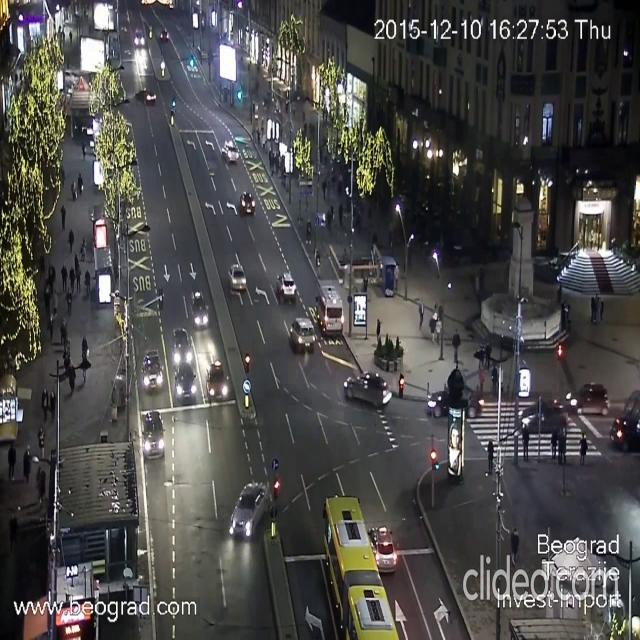bus: (322, 493, 400, 639), (318, 287, 344, 333)
car: (229, 480, 271, 540), (343, 370, 392, 407), (519, 401, 571, 435), (566, 382, 611, 420), (428, 388, 484, 418), (613, 394, 640, 450), (371, 524, 398, 574), (140, 410, 164, 460), (289, 316, 315, 353), (144, 349, 164, 391), (206, 359, 227, 399), (175, 365, 197, 402), (173, 328, 193, 366), (276, 271, 296, 302), (192, 293, 208, 327), (228, 263, 246, 293), (221, 138, 239, 162), (239, 191, 255, 214), (138, 88, 156, 102), (134, 27, 144, 45), (160, 26, 170, 42)
